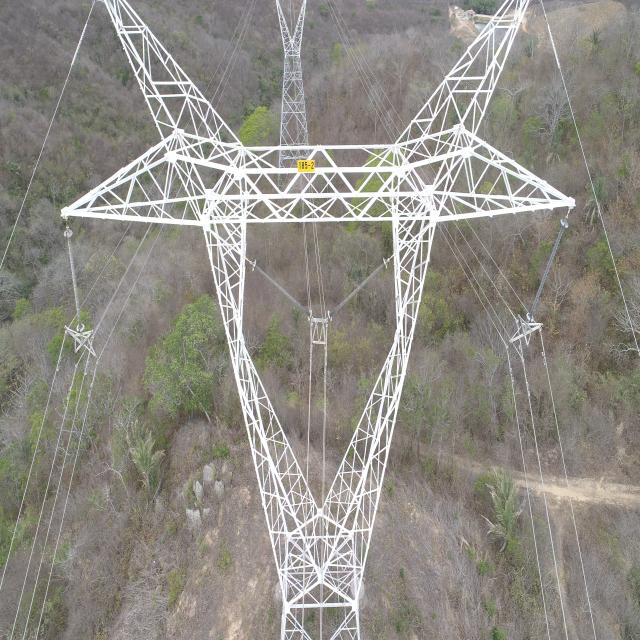杆塔: (47, 0, 554, 640)
正常电缆: (543, 6, 640, 365), (0, 11, 94, 283), (8, 359, 81, 640), (20, 358, 92, 640), (33, 360, 102, 640), (3, 329, 70, 617), (540, 354, 605, 640), (499, 364, 557, 640)
正常绝缘子: (522, 216, 574, 319), (326, 255, 389, 324), (250, 259, 312, 322), (56, 235, 89, 336)
